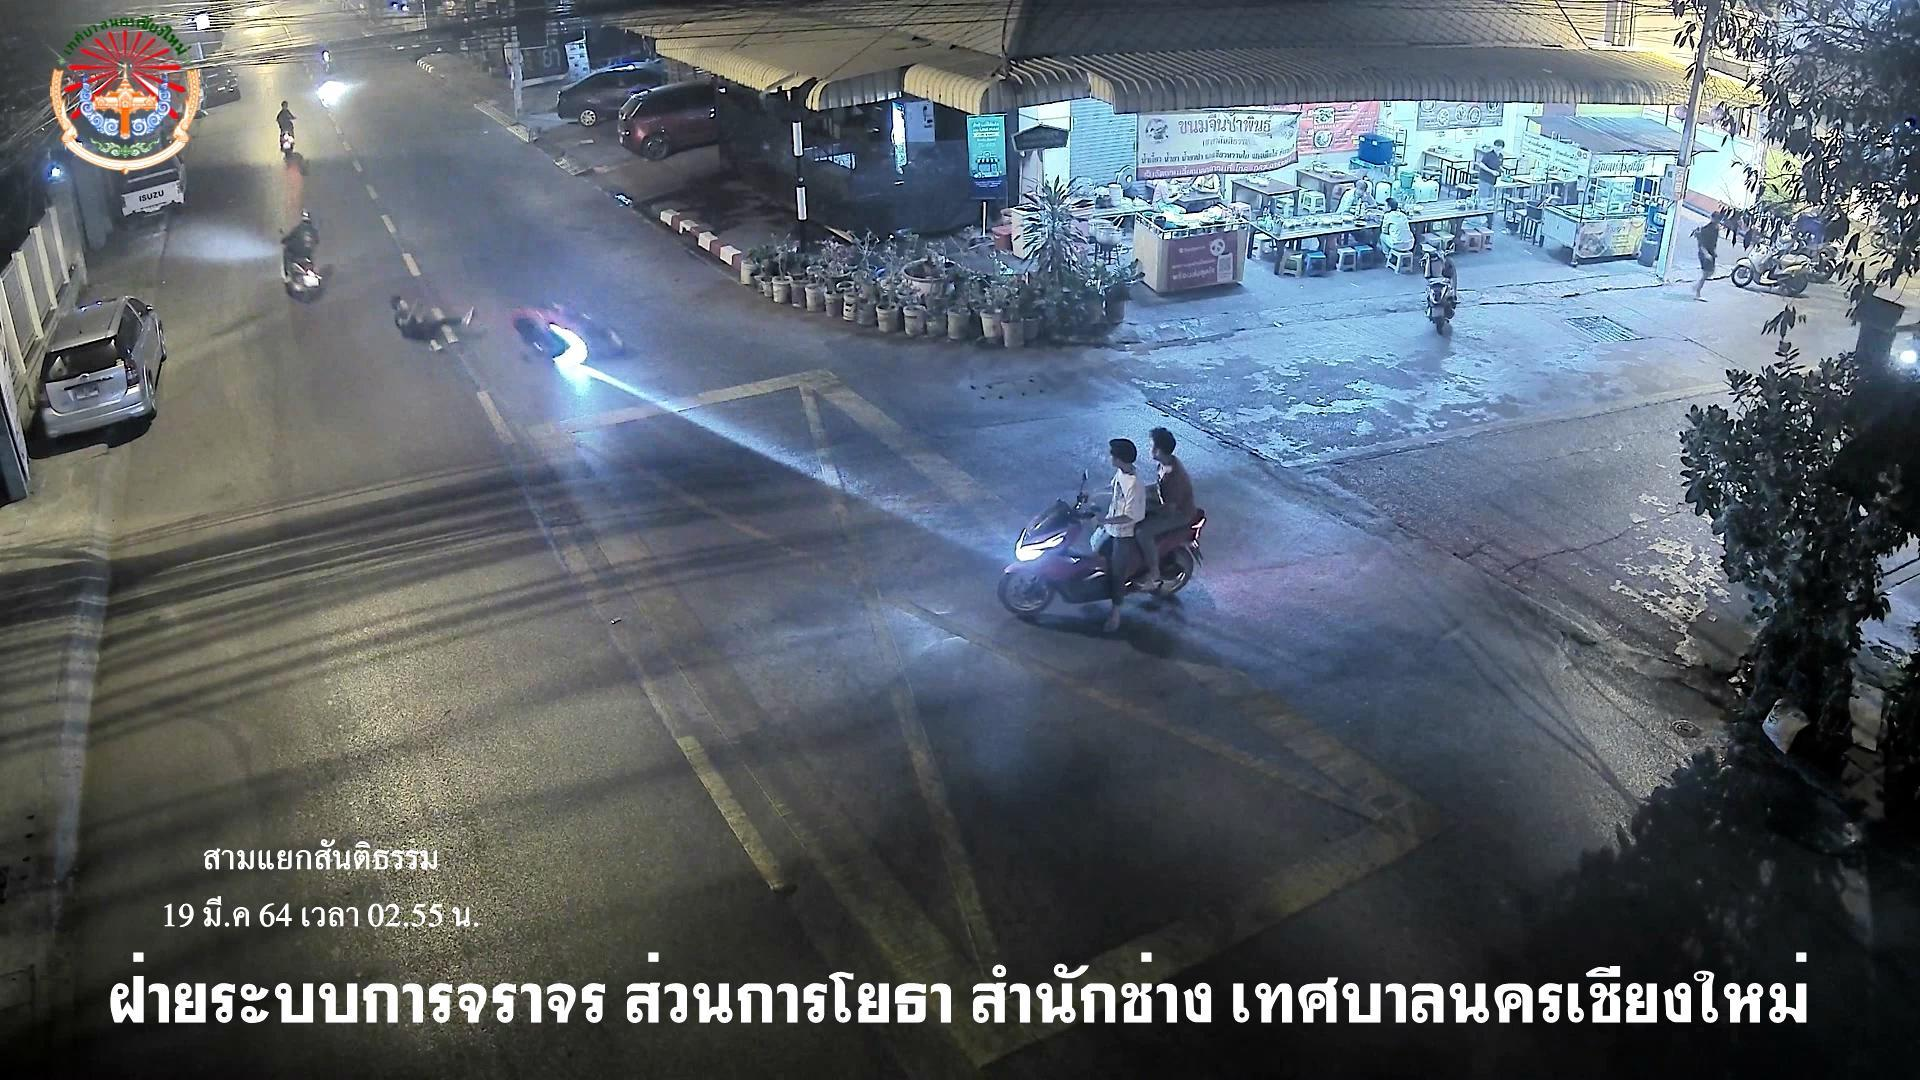accident: (385, 276, 488, 356)
